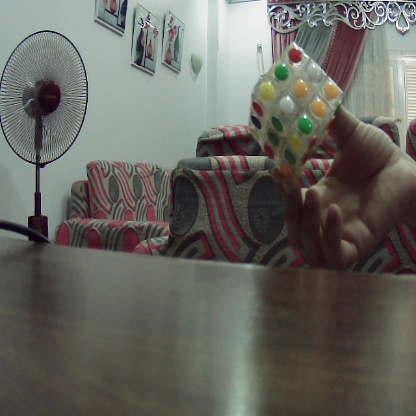Rubix Cube: (251, 47, 334, 170)
